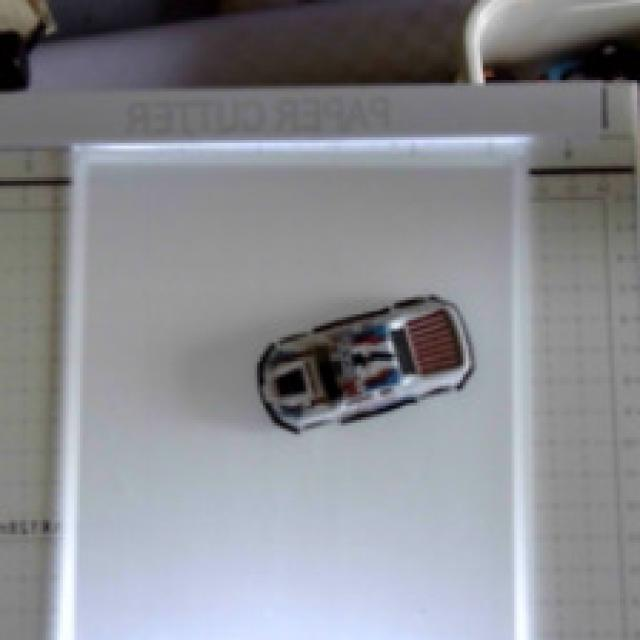Grey Car: (236, 267, 489, 476)
